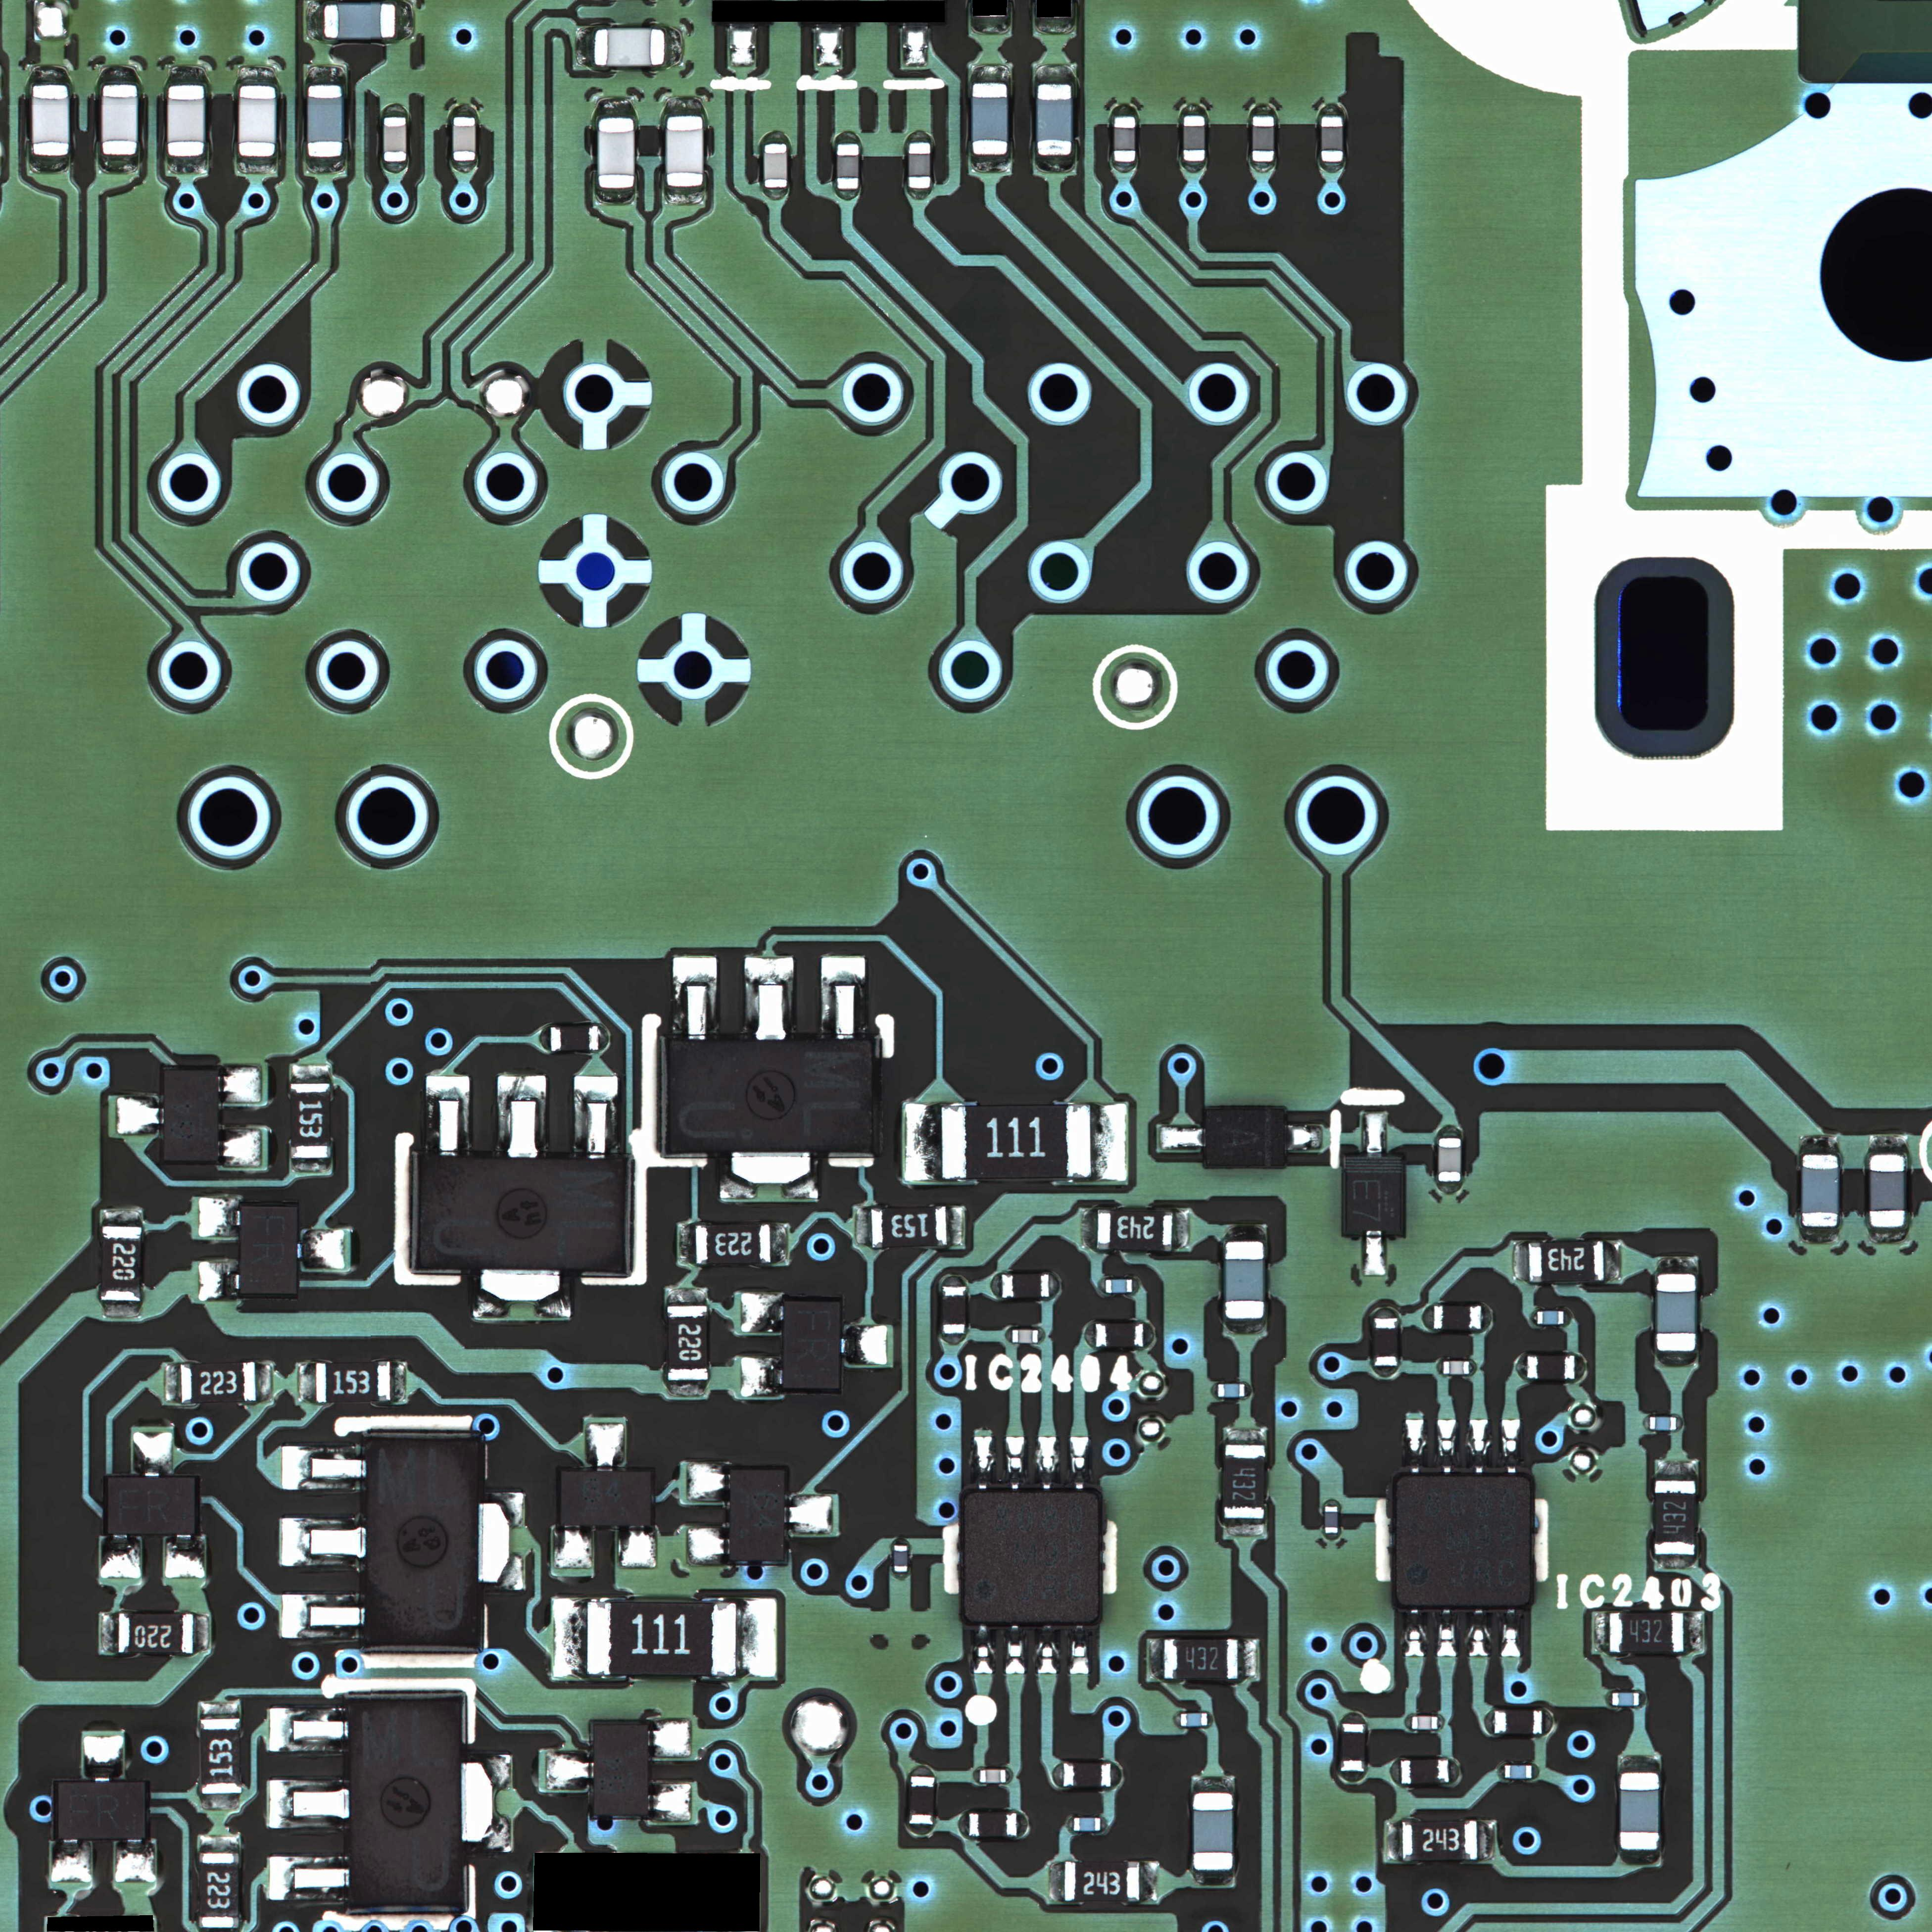Package: (418, 1159, 626, 1269), (350, 1702, 462, 1905), (368, 1438, 479, 1642), (669, 1040, 872, 1152), (964, 1491, 1099, 1622), (1398, 1477, 1530, 1606), (587, 1603, 736, 1675), (943, 1106, 1090, 1178), (784, 1300, 840, 1389), (241, 1207, 297, 1293), (108, 1477, 195, 1534), (165, 1070, 218, 1161), (731, 1470, 784, 1560), (594, 1725, 648, 1815), (58, 1783, 145, 1838), (563, 1472, 651, 1525), (1207, 1109, 1284, 1166), (1345, 1157, 1403, 1231), (200, 1718, 242, 1794), (1619, 1773, 1660, 1851), (1654, 1481, 1697, 1555), (1192, 1794, 1233, 1870), (1656, 1274, 1695, 1352), (317, 1362, 391, 1403), (119, 1614, 193, 1654), (667, 1306, 708, 1380), (1529, 1240, 1603, 1281), (1065, 1861, 1139, 1902), (198, 1852, 239, 1927), (870, 1207, 947, 1246), (290, 1085, 331, 1157), (1224, 1445, 1265, 1518), (1164, 1638, 1237, 1679), (1610, 1612, 1683, 1652), (103, 1226, 142, 1300), (180, 1362, 255, 1401), (695, 1224, 770, 1263), (1403, 1821, 1477, 1859), (1226, 1242, 1263, 1318), (1099, 1210, 1171, 1249), (32, 85, 69, 156), (239, 87, 276, 157), (594, 28, 665, 65), (598, 117, 635, 188), (665, 115, 702, 186), (1870, 1154, 1905, 1228), (1801, 1155, 1838, 1226), (308, 85, 343, 157), (324, 4, 396, 39), (103, 85, 138, 156), (168, 85, 203, 156), (971, 83, 1007, 154), (1037, 85, 1072, 156), (550, 1024, 598, 1051), (909, 1776, 934, 1824), (1063, 1762, 1111, 1787), (908, 142, 931, 189), (943, 1286, 966, 1334), (1001, 1274, 1049, 1297), (970, 1813, 1017, 1836), (1095, 1323, 1143, 1346), (1375, 1318, 1398, 1366), (1527, 1357, 1575, 1380), (1401, 1760, 1449, 1783), (1341, 1723, 1364, 1771), (1435, 1306, 1481, 1329), (1495, 1711, 1541, 1734), (453, 117, 476, 161), (764, 143, 787, 188), (1438, 1138, 1461, 1182), (1115, 115, 1136, 163), (837, 143, 858, 189), (1184, 115, 1205, 161), (1253, 115, 1274, 161), (1322, 117, 1343, 163), (384, 117, 405, 161), (893, 1545, 908, 1571), (1106, 1279, 1132, 1293), (1444, 1361, 1470, 1375), (1325, 1506, 1339, 1532), (1182, 1713, 1208, 1727), (1074, 1817, 1100, 1831), (1412, 1716, 1438, 1730), (1649, 1417, 1677, 1430), (1012, 1330, 1039, 1343), (980, 1769, 1007, 1782), (1537, 1311, 1564, 1323), (1219, 1384, 1246, 1396), (1506, 1766, 1532, 1778), (1612, 1693, 1638, 1706)
Solder: (462, 1753, 511, 1852), (472, 1270, 571, 1318), (720, 1152, 817, 1200), (479, 1491, 524, 1591), (281, 1516, 366, 1566), (745, 957, 794, 1040), (497, 1076, 547, 1157), (672, 955, 718, 1040), (269, 1780, 350, 1828), (573, 1076, 619, 1159), (281, 1445, 366, 1490), (281, 1594, 366, 1638), (821, 955, 865, 1040), (269, 1707, 350, 1752), (269, 1856, 350, 1900), (426, 1076, 469, 1159), (736, 1598, 777, 1679), (904, 1102, 941, 1180), (552, 1599, 587, 1681), (1092, 1102, 1127, 1184), (299, 1228, 345, 1270), (547, 1750, 593, 1792), (83, 1736, 124, 1783), (133, 1431, 173, 1477), (586, 1422, 625, 1470), (165, 1534, 205, 1578), (101, 1534, 142, 1578), (842, 1325, 886, 1366), (648, 1718, 692, 1759), (117, 1095, 163, 1134), (786, 1495, 832, 1534), (219, 1127, 262, 1168), (198, 1196, 241, 1237), (198, 1261, 241, 1302), (115, 1840, 156, 1882), (51, 1840, 92, 1882), (741, 1357, 784, 1398), (552, 1527, 593, 1569), (686, 1463, 731, 1502), (741, 1293, 784, 1332), (688, 1527, 731, 1566), (649, 1783, 692, 1822), (218, 1065, 262, 1102), (619, 1527, 656, 1569), (1037, 1437, 1060, 1490), (1362, 1111, 1389, 1157), (1468, 1419, 1490, 1476), (1405, 1419, 1426, 1476), (1467, 1606, 1490, 1658), (1159, 1125, 1205, 1150), (971, 1624, 994, 1674), (1437, 1419, 1456, 1477), (902, 25, 929, 67), (1500, 1419, 1520, 1476), (814, 27, 842, 65), (1437, 1606, 1458, 1658), (975, 1437, 994, 1490), (1005, 1437, 1024, 1490), (1070, 1437, 1090, 1490), (1037, 1626, 1058, 1674), (1005, 1626, 1026, 1674), (1500, 1606, 1520, 1658), (1405, 1606, 1424, 1658), (1284, 1125, 1322, 1152), (1364, 1231, 1385, 1276), (1069, 1626, 1088, 1674), (731, 25, 754, 64), (28, 65, 73, 85), (165, 65, 209, 85), (235, 65, 280, 85), (663, 1380, 711, 1398), (99, 65, 142, 85), (970, 64, 1012, 83), (1238, 1638, 1258, 1681), (1684, 1612, 1704, 1654), (306, 65, 347, 85), (594, 97, 635, 117), (1035, 64, 1076, 83), (970, 154, 1010, 173), (1477, 1821, 1497, 1861), (28, 156, 73, 173), (303, 157, 345, 175), (663, 97, 706, 115), (771, 1223, 789, 1265), (1224, 1223, 1267, 1240), (1224, 1428, 1267, 1445), (1224, 1520, 1267, 1537), (1656, 1256, 1698, 1274), (1656, 1461, 1698, 1479), (97, 156, 138, 173), (235, 157, 276, 175), (292, 1065, 333, 1083), (101, 1300, 142, 1318), (299, 1364, 317, 1405), (101, 1612, 119, 1652), (200, 1794, 241, 1812), (577, 27, 594, 67), (594, 188, 635, 205), (667, 1288, 708, 1306), (1139, 1861, 1157, 1902), (1603, 1240, 1621, 1281), (1799, 1136, 1840, 1154), (1621, 1755, 1661, 1773), (200, 1833, 241, 1851), (665, 28, 683, 67), (665, 188, 704, 205), (1868, 1136, 1907, 1154), (1385, 1821, 1403, 1859), (391, 1361, 407, 1403), (195, 1612, 211, 1654), (200, 1702, 242, 1718), (948, 1205, 964, 1247), (1081, 1208, 1097, 1251), (1192, 1776, 1235, 1792), (1867, 1228, 1909, 1244), (1035, 19, 1077, 35), (166, 157, 207, 173), (257, 1362, 272, 1403), (679, 1224, 695, 1265), (1035, 156, 1076, 172), (1173, 1210, 1189, 1251), (1513, 1240, 1529, 1281), (1799, 1228, 1840, 1244), (288, 1159, 333, 1173), (103, 1210, 142, 1226), (165, 1362, 180, 1401), (855, 1208, 870, 1247), (1194, 1870, 1233, 1886), (1049, 1861, 1065, 1900), (1658, 1352, 1697, 1368), (1224, 1320, 1267, 1334), (1594, 1612, 1608, 1654), (1150, 1638, 1164, 1679), (1656, 1555, 1697, 1569), (1619, 1851, 1660, 1865), (973, 18, 1008, 34), (448, 104, 478, 117), (538, 1024, 550, 1053), (1249, 103, 1276, 115), (1318, 103, 1345, 115), (1373, 1366, 1399, 1378), (598, 1023, 609, 1053), (382, 104, 407, 117), (835, 189, 860, 202), (1182, 103, 1207, 115), (1182, 161, 1207, 173), (989, 1272, 1001, 1297), (1437, 1182, 1461, 1194), (1421, 1304, 1433, 1329), (1341, 1771, 1366, 1783), (1389, 1760, 1401, 1785), (1576, 1353, 1587, 1382), (384, 161, 407, 173), (453, 161, 476, 173), (906, 131, 932, 142), (909, 1824, 936, 1835), (1085, 1322, 1095, 1348), (1017, 1812, 1028, 1838), (1111, 1762, 1122, 1789), (1516, 1353, 1527, 1380), (1449, 1759, 1460, 1785), (764, 189, 789, 200), (835, 131, 860, 142), (908, 189, 932, 200), (909, 1766, 934, 1776), (1113, 104, 1138, 115), (1320, 163, 1345, 173), (1251, 163, 1276, 173), (1113, 163, 1138, 173), (1049, 1274, 1060, 1299), (1543, 1711, 1553, 1736), (1341, 1713, 1366, 1723), (764, 131, 787, 142), (1438, 1125, 1461, 1136), (1145, 1322, 1154, 1348), (1483, 1304, 1491, 1330), (1484, 1709, 1493, 1736), (941, 1276, 966, 1284), (943, 1336, 968, 1345), (959, 1812, 968, 1836), (1053, 1762, 1062, 1787), (1375, 1307, 1399, 1316), (1638, 1691, 1647, 1707), (1323, 1534, 1341, 1541), (893, 1573, 909, 1580), (1099, 1277, 1106, 1293), (1039, 1327, 1046, 1343), (1005, 1327, 1012, 1343), (1323, 1499, 1339, 1506), (1173, 1711, 1180, 1727), (1470, 1361, 1477, 1376), (1435, 1359, 1442, 1375), (1605, 1691, 1612, 1707), (1532, 1764, 1539, 1780), (1438, 1714, 1445, 1730), (893, 1537, 908, 1545), (1246, 1384, 1253, 1398), (1210, 1384, 1217, 1398), (1007, 1769, 1014, 1783), (1067, 1817, 1074, 1831), (1564, 1311, 1571, 1325), (1530, 1309, 1537, 1323), (1642, 1415, 1649, 1430), (1405, 1713, 1410, 1730), (1677, 1417, 1684, 1430), (1134, 1277, 1139, 1293), (973, 1767, 978, 1783), (1208, 1713, 1214, 1727), (1102, 1817, 1108, 1831)
